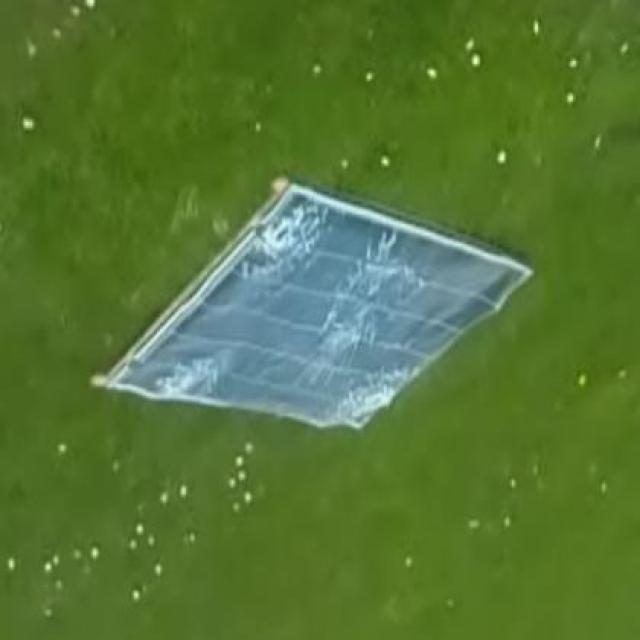cracked: (105, 186, 529, 437)
